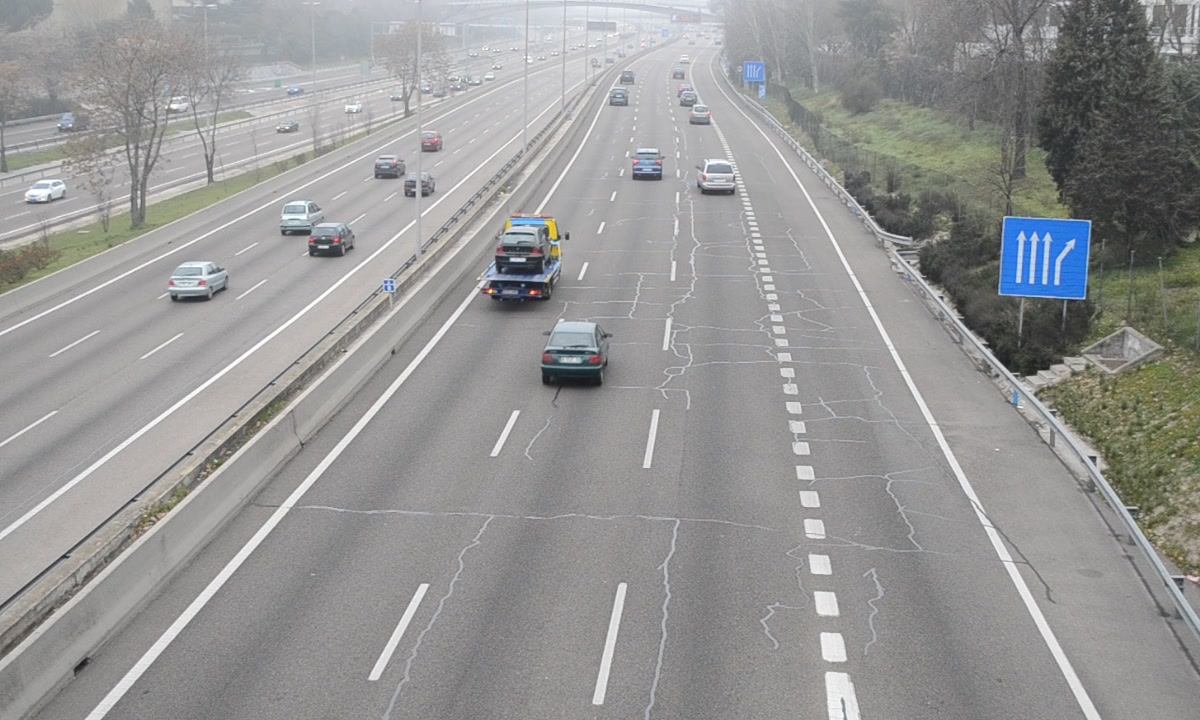car: (541, 322, 608, 379), (697, 158, 738, 193), (629, 148, 663, 179), (688, 104, 709, 124), (609, 86, 629, 106)
small-truck: (479, 214, 560, 301)
